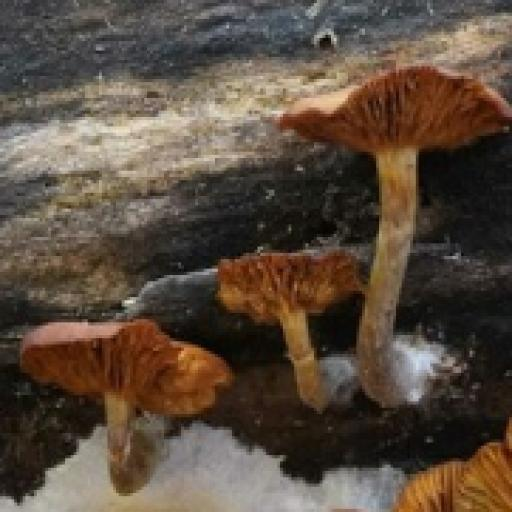mushroom: (263, 32, 512, 209), (13, 304, 231, 486)
